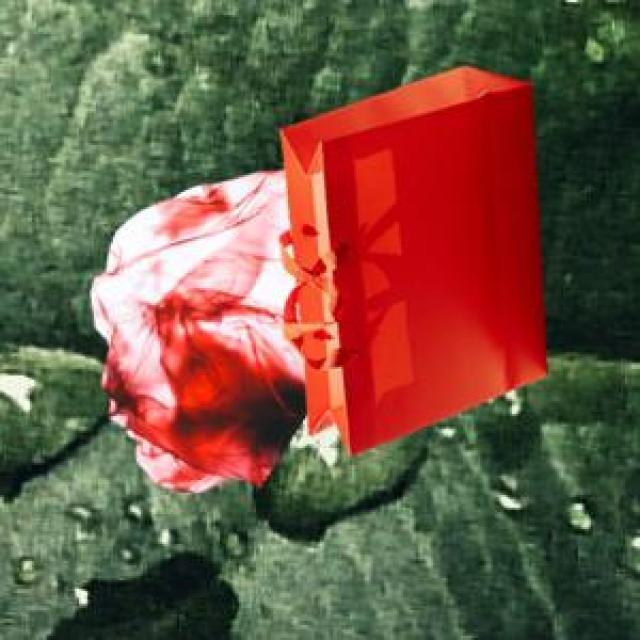paper: (275, 62, 544, 452)
